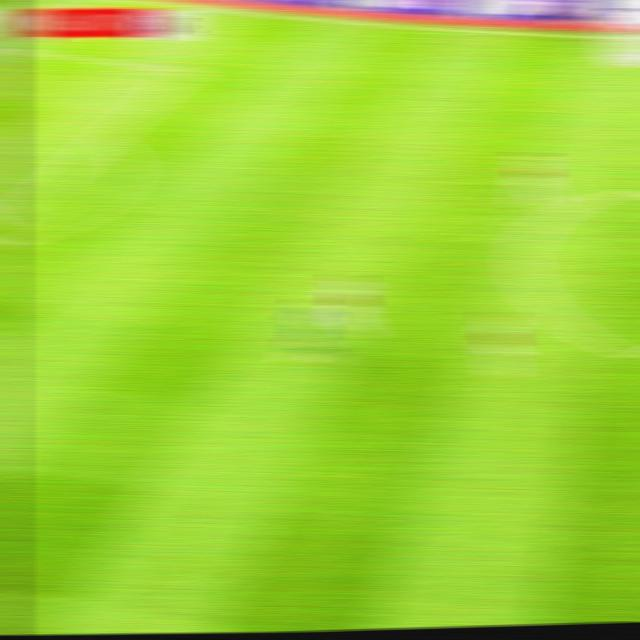bigarea_top_inner: (166, 59, 200, 81)
top_arc_area_intersection: (89, 127, 122, 147)
